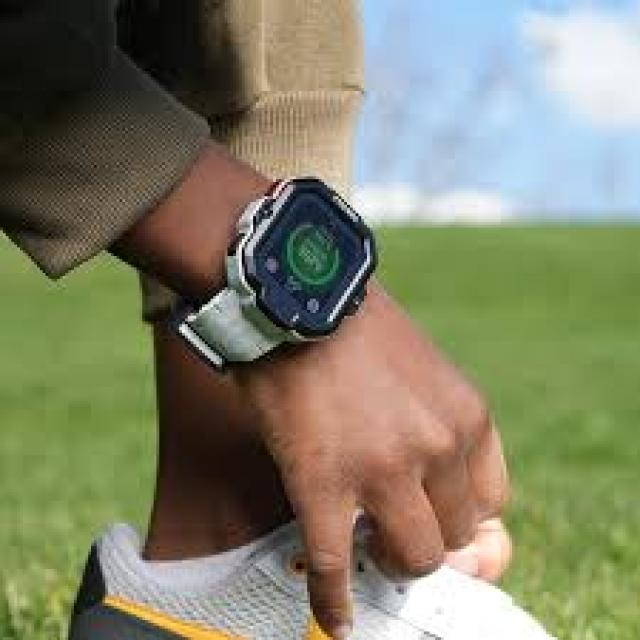objects: (213, 168, 380, 349)
